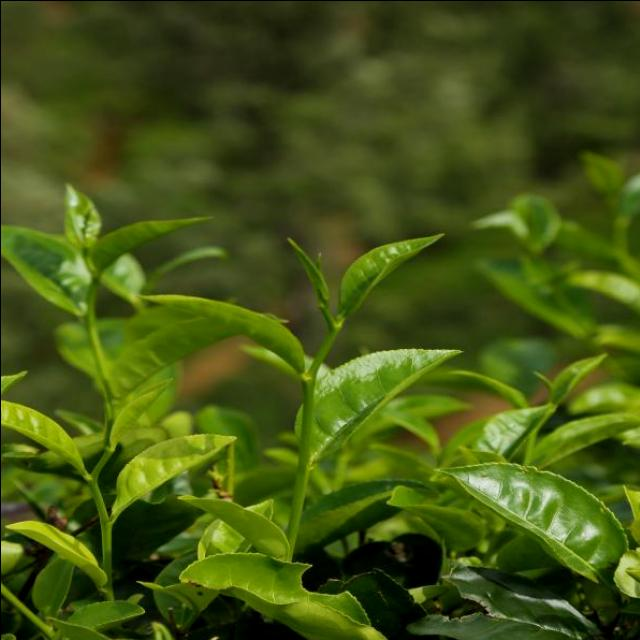Stem: (88, 478, 108, 519), (84, 313, 101, 356), (302, 381, 312, 441)
